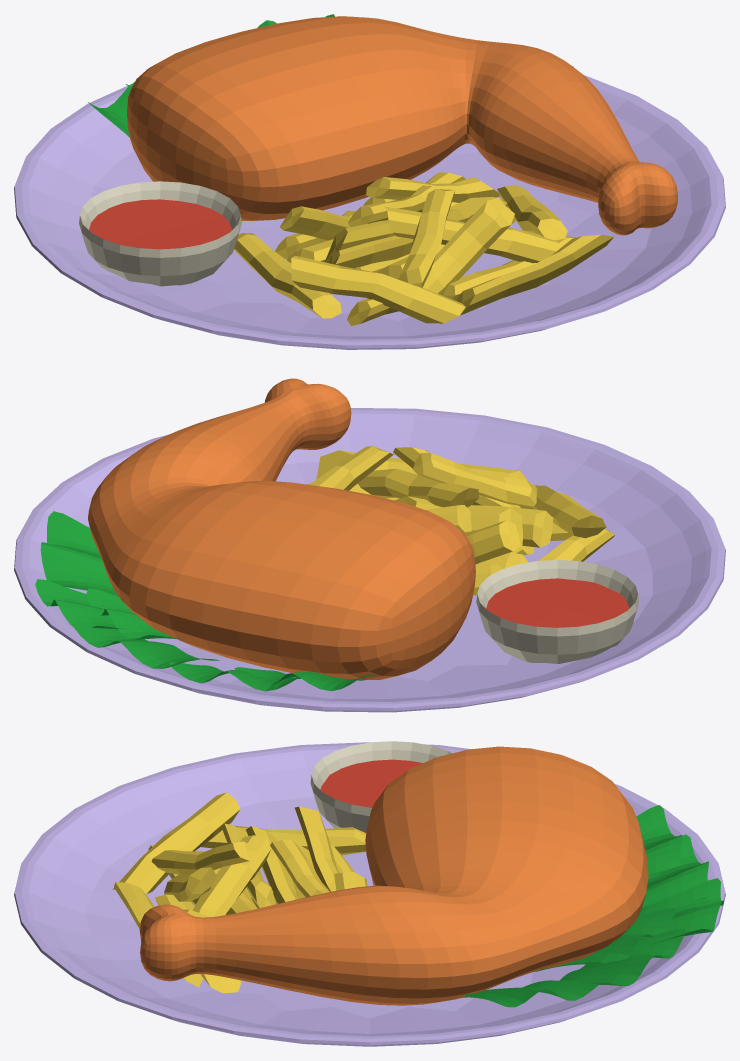
File: ObAyam.fbx
3 views of the same model, one above another, from view 1: azimuth 30°, elevation 25°; view 2: azimuth 150°, elevation 25°; view 3: azimuth 270°, elevation 25° (orthographic).
Visible parts, largest first — view 1: Cylinder.001, Cylinder, Cylinder.002, Plane.005, Cube.005, Cube.012, Cube.006, Cube.004, Cube.002, Cube.016, Cube.011, Cube.015 (+9 smaller); view 2: Cylinder.001, Cylinder, Cylinder.002, Plane.005, Plane.004, Cube.016, Cube.002, Plane, Cube.005, Plane.001, Cube.011, Plane.003 (+9 smaller); view 3: Cylinder.001, Cylinder, Cylinder.002, Cube.005, Plane.005, Plane.001, Plane, Cube.002, Plane.006, Cube.016, Plane.003, Plane.002 (+9 smaller).
Part boxes in pixels (x1,y1,x2,y2): Cylinder.001: [127, 16, 677, 235]; Cylinder: [14, 75, 725, 349]; Cylinder.002: [79, 181, 241, 286]; Plane.005: [89, 199, 231, 249]; Cube.005: [291, 256, 465, 323]; Cube.012: [423, 197, 514, 295]; Cube.006: [456, 234, 613, 315]; Cube.004: [234, 233, 341, 318]; Cube.002: [384, 206, 559, 263]; Cube.016: [399, 189, 454, 287]; Cube.011: [497, 185, 567, 240]; Cube.015: [366, 177, 499, 202]; Cylinder.001: [88, 378, 475, 679]; Cylinder: [14, 408, 725, 712]; Cylinder.002: [476, 560, 638, 663]; Plane.005: [486, 578, 629, 636]; Plane.004: [40, 511, 118, 596]; Cube.016: [413, 453, 537, 508]; Cube.002: [358, 468, 479, 507]; Plane: [72, 620, 219, 668]; Cube.005: [519, 485, 606, 538]; Plane.001: [35, 579, 124, 629]; Cube.011: [309, 446, 393, 490]; Plane.003: [86, 588, 181, 640]; Cylinder.001: [139, 746, 648, 1005]; Cylinder: [14, 742, 725, 1046]; Cylinder.002: [310, 741, 451, 832]; Cube.005: [112, 792, 240, 894]; Plane.005: [320, 759, 422, 807]; Plane.001: [560, 928, 685, 985]; Plane: [638, 878, 723, 945]; Cube.002: [192, 835, 271, 916]; Plane.006: [636, 805, 682, 884]; Cube.016: [151, 841, 257, 874]; Plane.003: [535, 908, 675, 971]; Plane.002: [642, 834, 708, 907].
Size of the model in its own units: 275 by 62.23 by 275.
